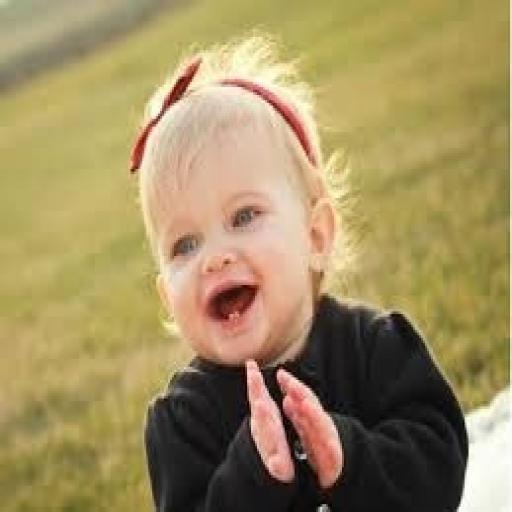clapping: (126, 29, 470, 509)
